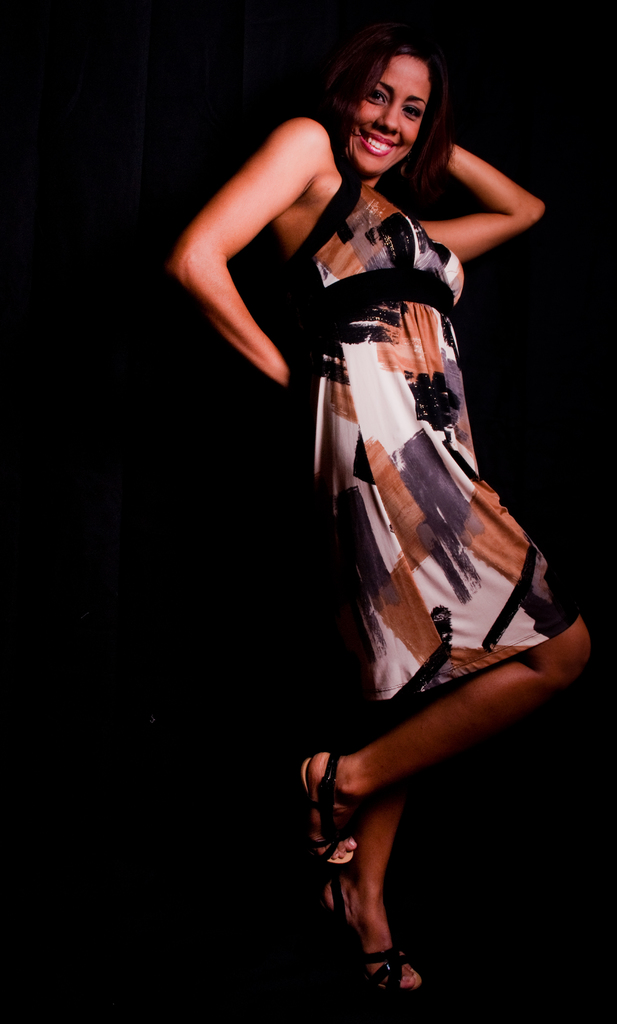face: (350, 49, 428, 176)
